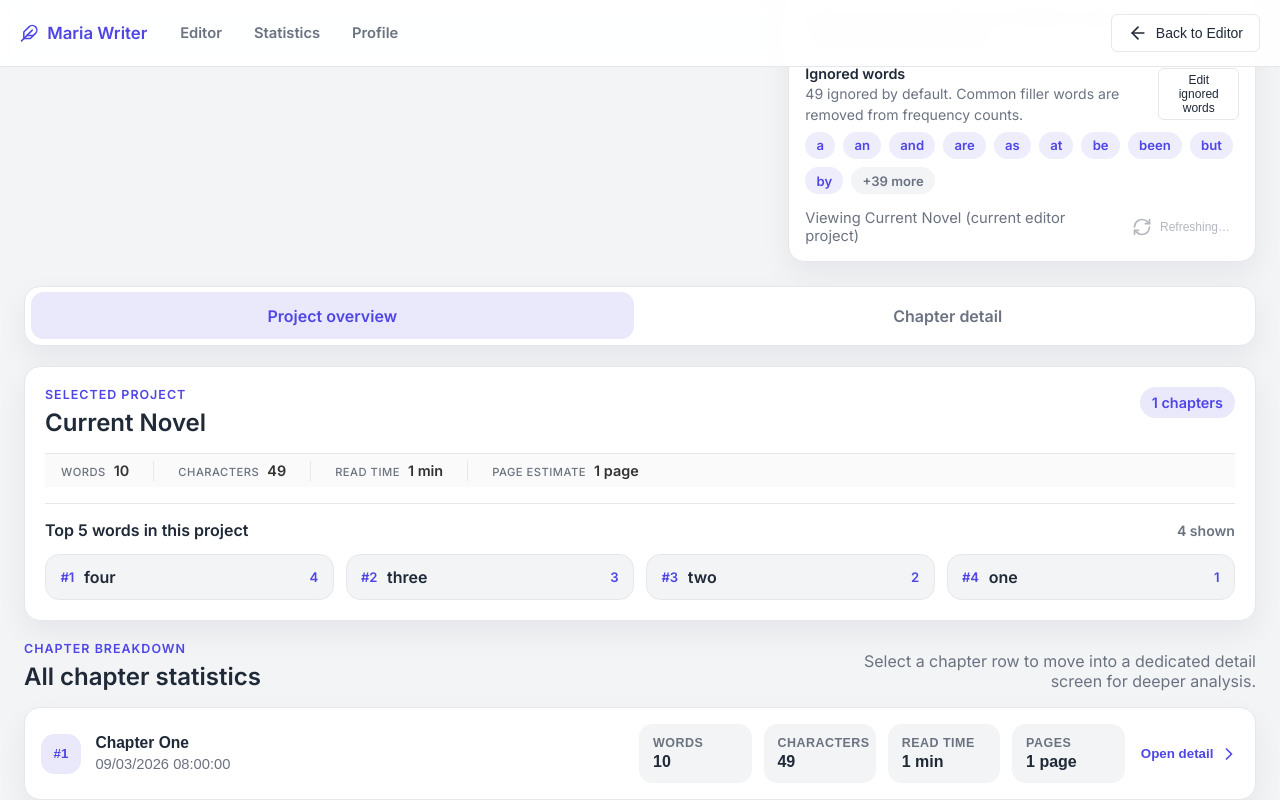
it: ProjectStatisticsPage › opens a dedicated chapter detail screen when a chapter row is selected
(page scrolled)
Click the button with aria-label "view statistics for chapter one" at (640, 754), box [25,708,1255,799]
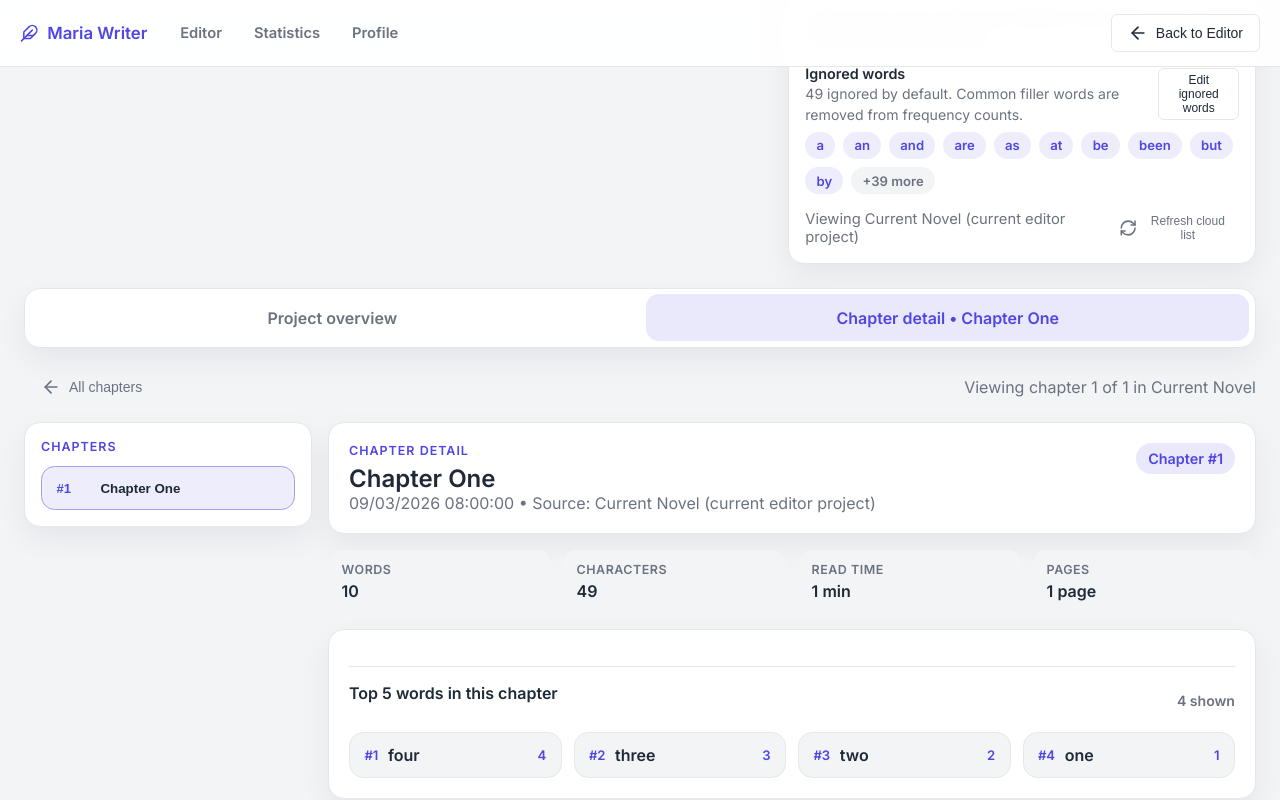
Check: the heading "Chapter One" is shown, box [349,464,496,493]
Check: the heading "Top 5 words in this chapter" is shown, box [349,682,558,702]
Check: the button "All chapters" is shown, box [24,368,159,406]
